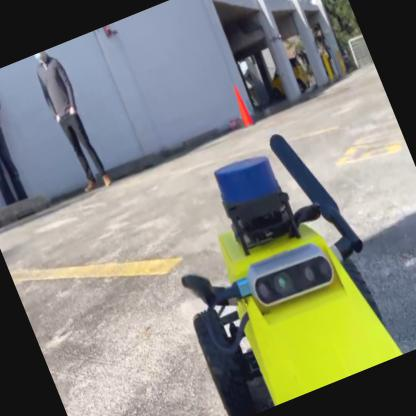cone: (229, 82, 256, 127)
mushr_car: (131, 115, 415, 415)
